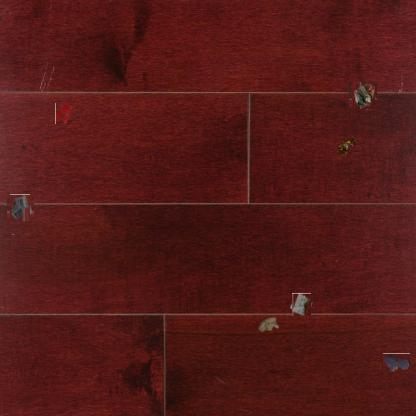dirty: (350, 84, 376, 110), (336, 135, 358, 161), (9, 196, 32, 220), (291, 294, 312, 316), (257, 316, 279, 332)
liquid: (382, 353, 410, 372), (55, 102, 72, 124)
